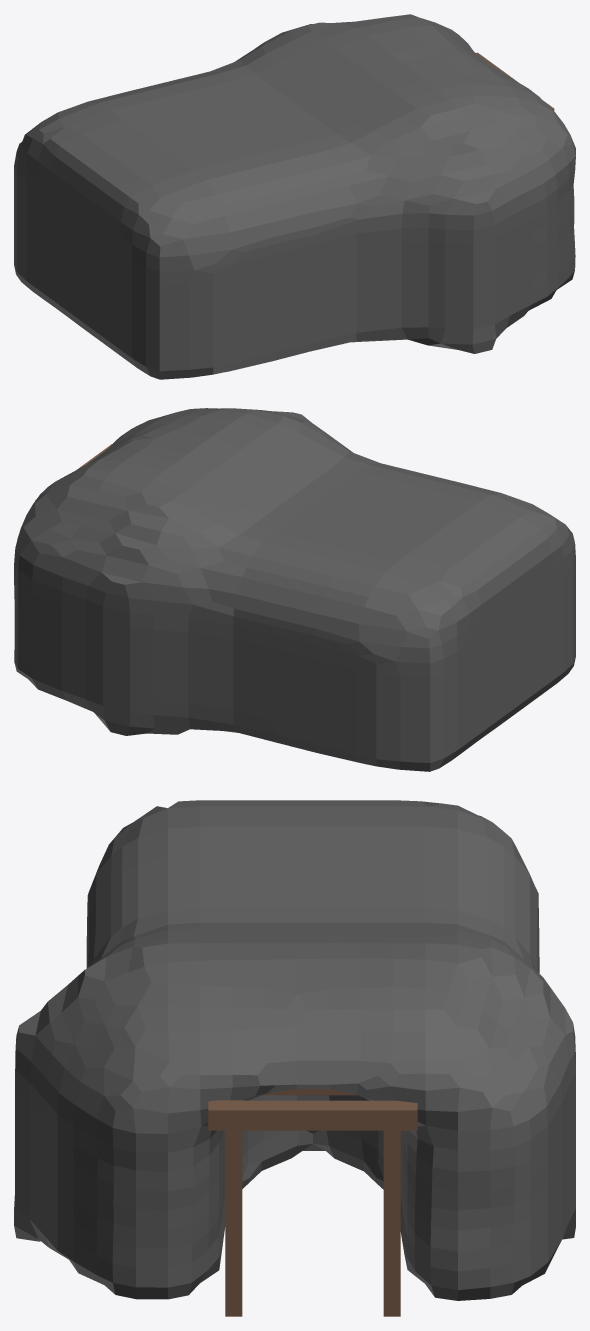
Rendered from Mine_Entry.fbx.
The picture shows the model from 3 angles, top to bottom: view 1: azimuth 30°, elevation 25°; view 2: azimuth 150°, elevation 25°; view 3: azimuth 270°, elevation 25°; orthographic projection. The views are drawn at different scales.
Visible parts, largest first — view 1: Cube; view 2: Cube; view 3: Cube, Cube.003, Cube.001, Cube.002.
Part boxes in pixels (x1,y1,x2,y2): Cube: (14, 14, 575, 379); Cube: (14, 408, 575, 771); Cube: (14, 800, 575, 1300); Cube.003: (208, 1089, 417, 1130); Cube.001: (225, 1130, 242, 1316); Cube.002: (383, 1130, 400, 1316).
Size of the model in its own units: 1220 by 561 by 993.
